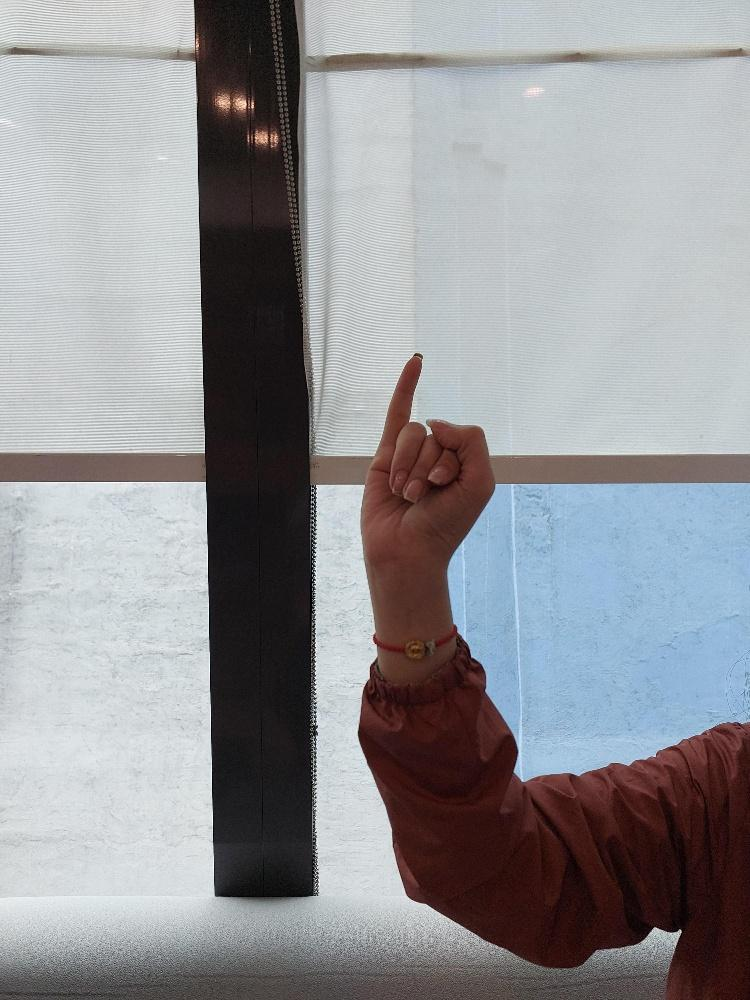i: (356, 349, 499, 571)
